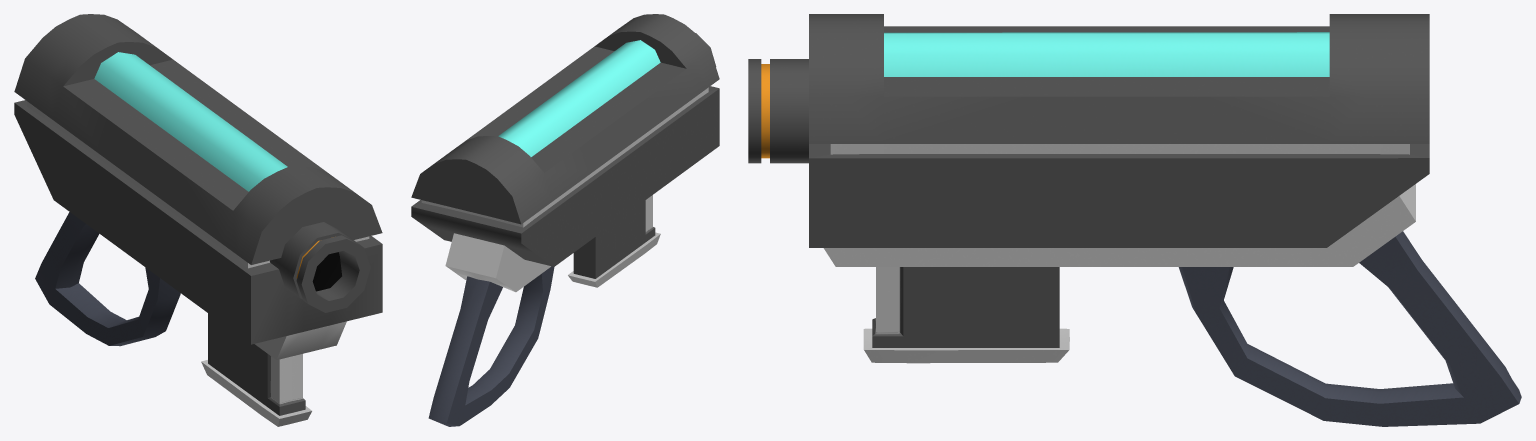
File: GUN.FBX
3 renders of one model, left to right at view 1: azimuth 30°, elevation 25°; view 2: azimuth 150°, elevation 25°; view 3: azimuth 270°, elevation 25°, orthographic. The views are drawn at different scales.
Visible parts, largest first — view 1: Box015; view 2: Box015; view 3: Box015.
Boxes of the visible parts, box(x1,y1,x2,y2) form: Box015: box(14, 14, 382, 426); Box015: box(411, 14, 719, 426); Box015: box(748, 14, 1521, 426).
Size of the model in its own units: 36.13 by 80.49 by 140.
Materials: 1 (1 with a texture image).
